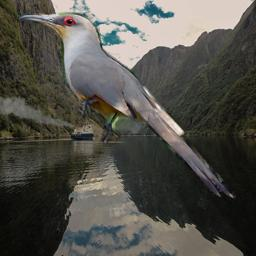Cuckoo: (18, 11, 236, 203)
